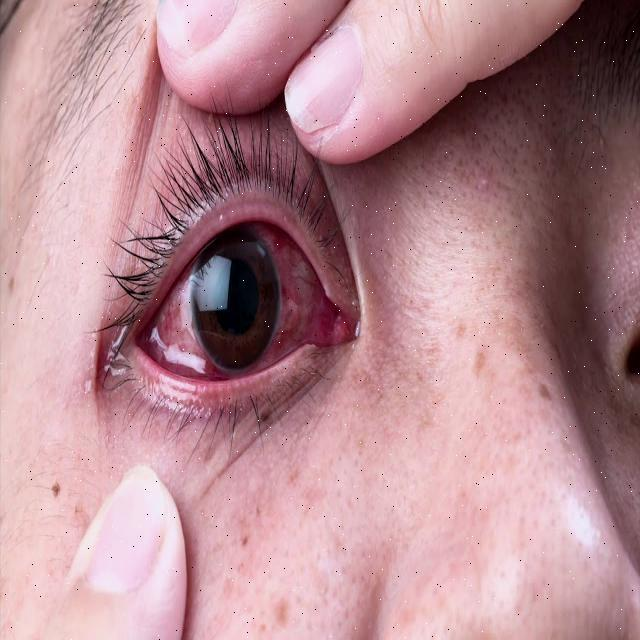Conjunctivitis: (138, 234, 368, 378)
